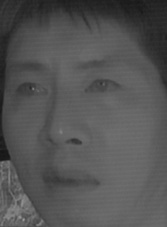eye: (78, 75, 122, 99), (13, 79, 49, 102)
mouth: (40, 158, 103, 199)
